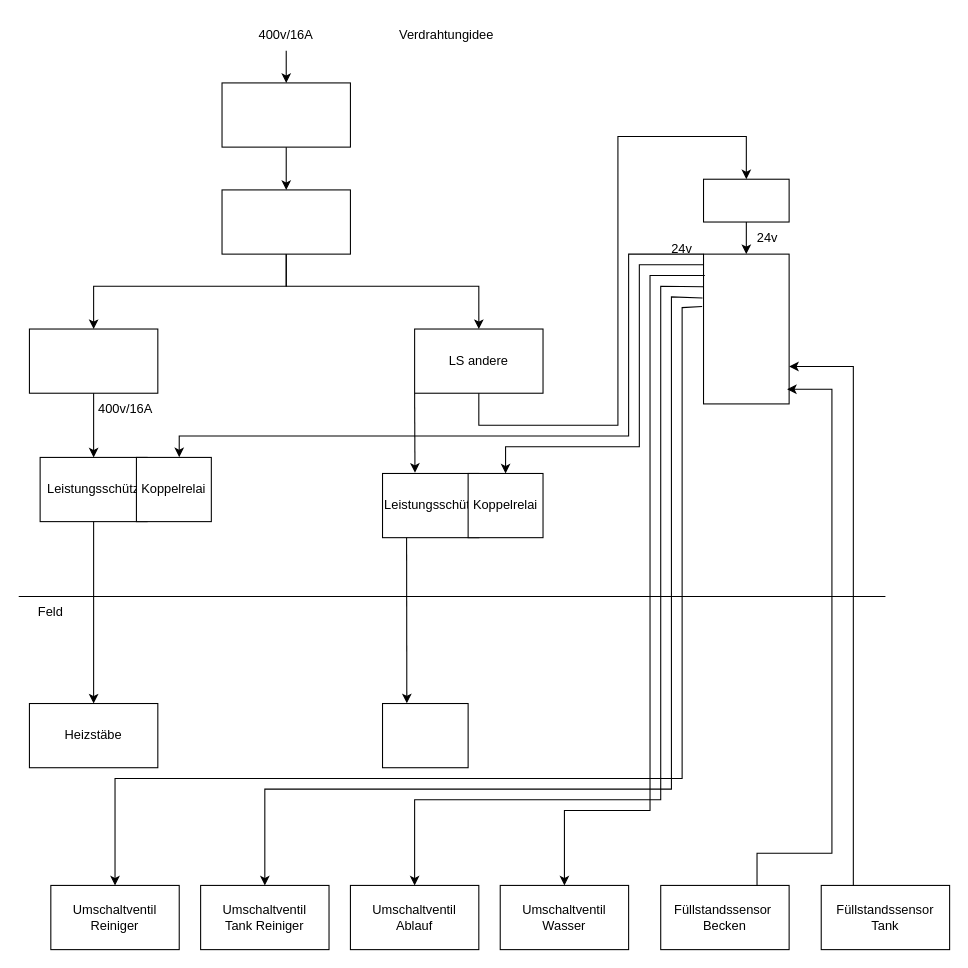
Image size: 968x968. Some labels were removed from this diagram. The shapes that lost their labels are listed below. From the top down, each one's centre as x and y in pixels, then its label:
At pixel 285 114: "Hauptschalter".
At pixel 745 200: "230v ~ 24v".
At pixel 285 221: "FI".
At pixel 745 328: "Logo! I/O Modul".
At pixel 93 360: "LS - Heizstäbe".
At pixel 424 735: "230v Motor".
